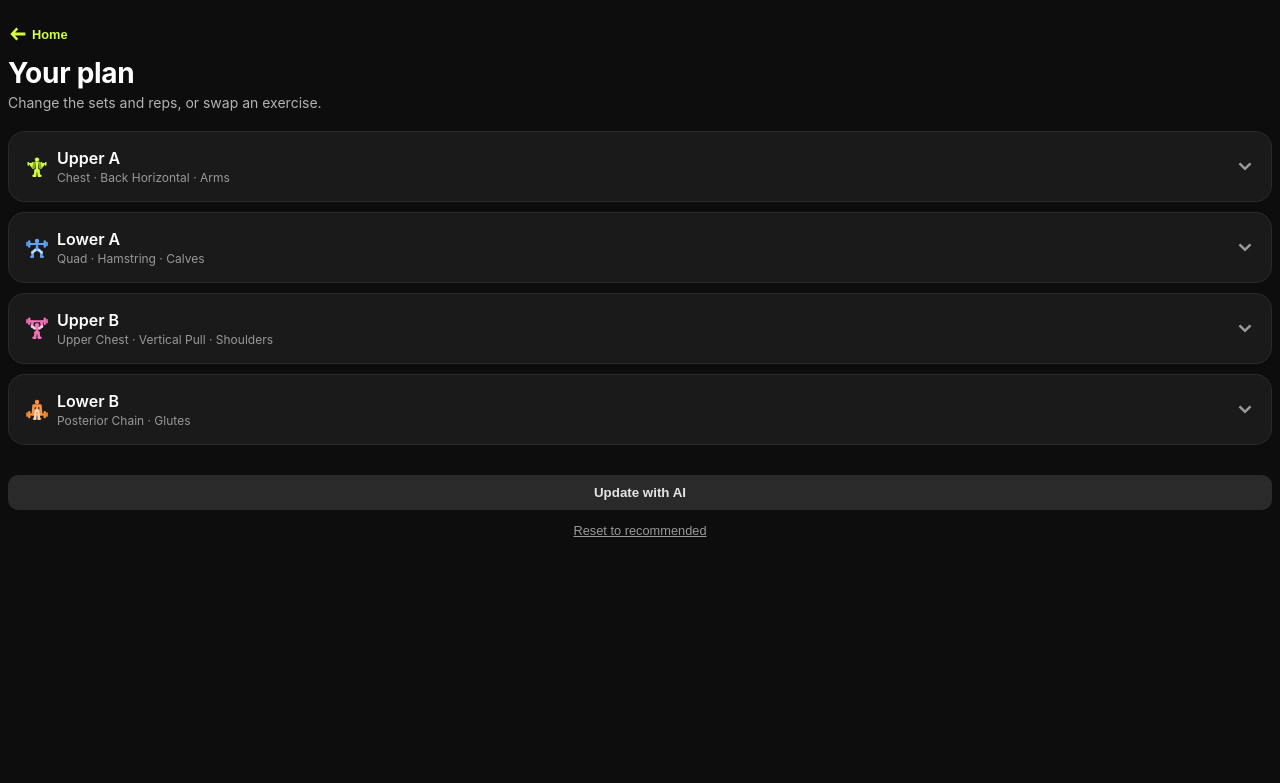
Test: Plan editing › shows the server field message for a 400, not a generic one
What coordinates should you click on to do the following:
click the button "Upper A Chest · Back Horizontal · Arms"
I would click on:
 (89, 158)
Its box is [9,132,1271,201].
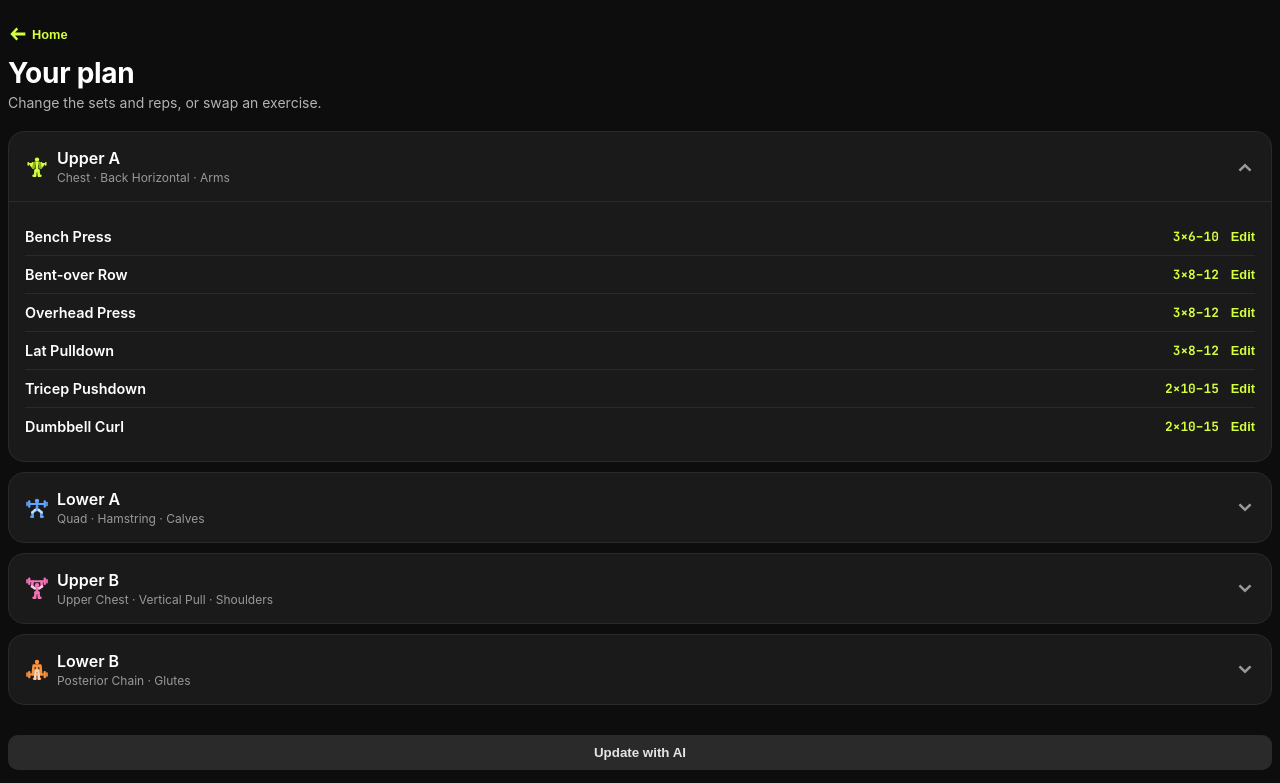
What coordinates should you click on to do the following:
click the button "Edit" in the row of "Bench Press"
I would click on:
 (1243, 236)
Its box is [1231,229,1255,244].
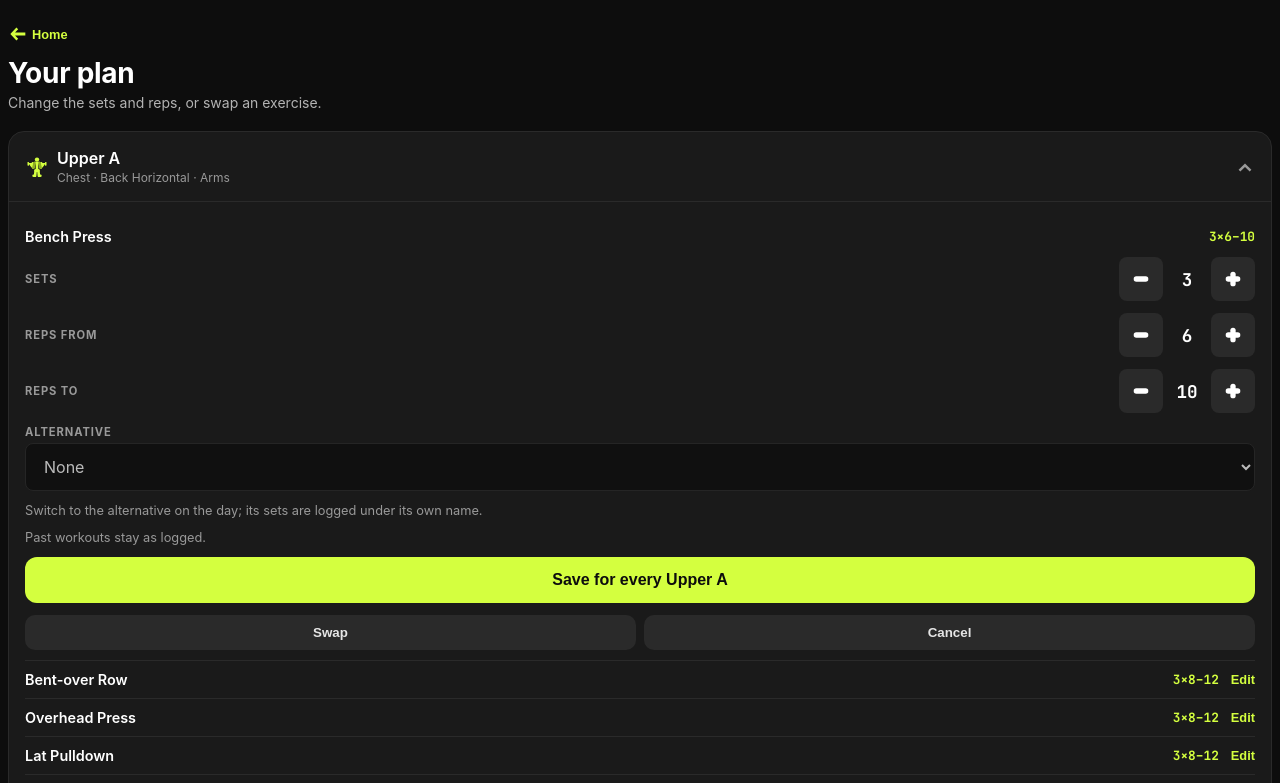
What coordinates should you click on to do the following:
click the button named "increase Reps from"
I would click on:
 (1233, 335)
Its box is [1211,313,1255,357].
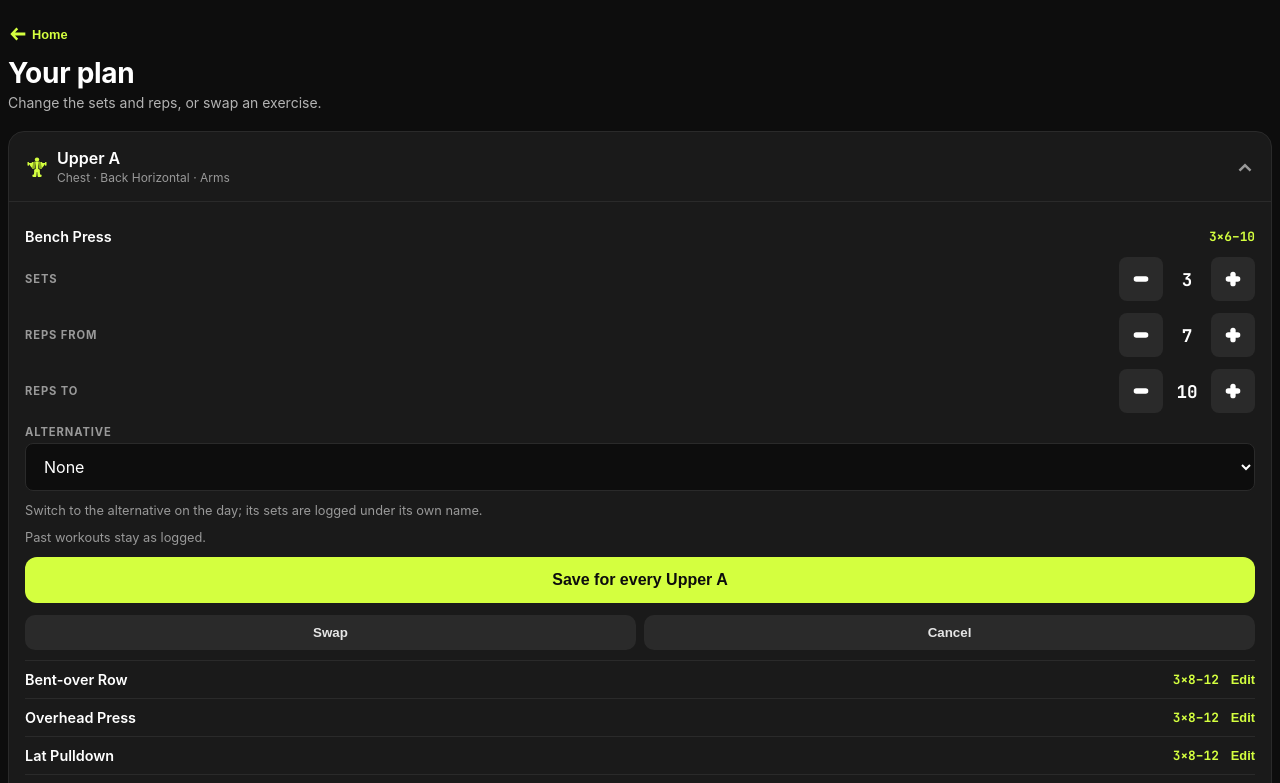
What coordinates should you click on to do the following:
click the button "Save for every Upper A"
I would click on:
 (640, 580)
Its box is [25,557,1255,603].
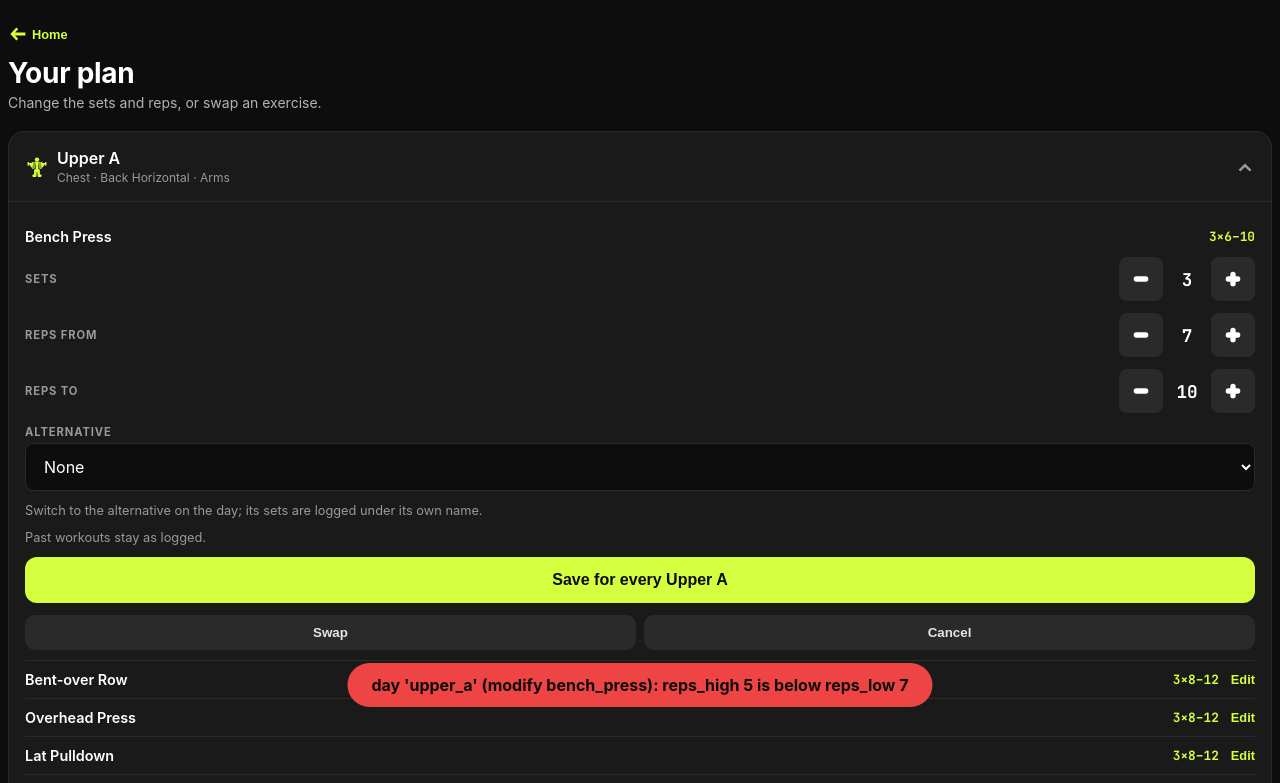
Result: the message reads "day 'upper_a' (modify bench_press): reps_high 5 is below reps_low 7" at [372,675,909,695]
